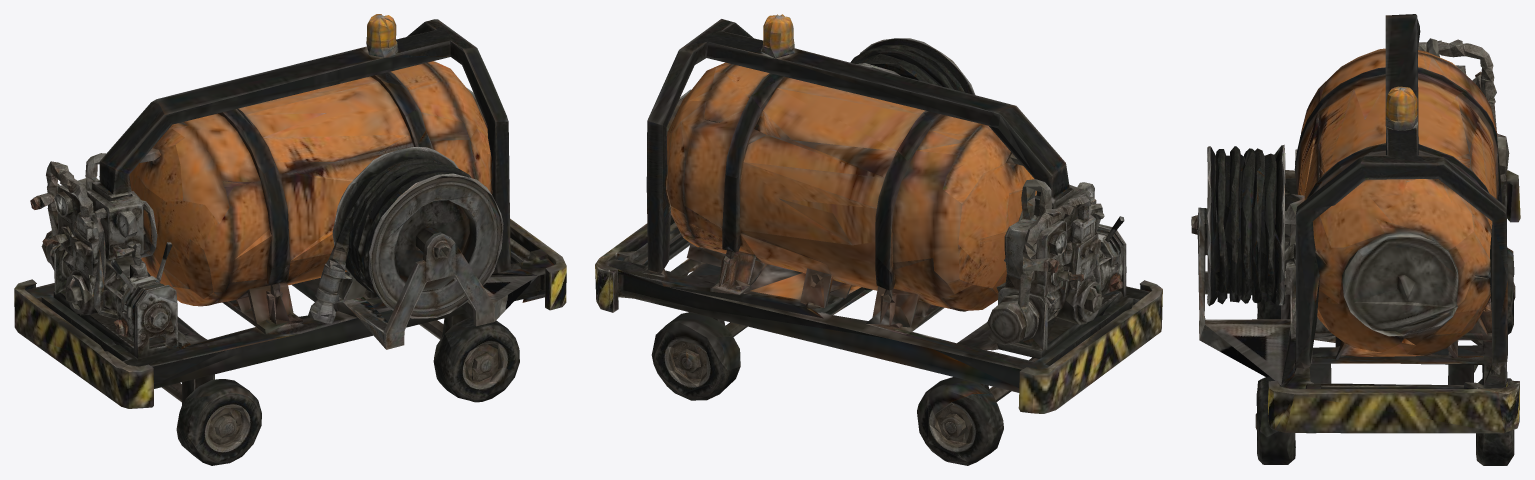
File: ncz-fuel-bowser.glb
3 views of the same model, side by side, from view 1: azimuth 30°, elevation 25°; view 2: azimuth 150°, elevation 25°; view 3: azimuth 270°, elevation 25° (orthographic). The views are drawn at different scales.
Parts seen in each view (by area): view 1: output_unwrapped; view 2: output_unwrapped; view 3: output_unwrapped.
Part boxes in pixels (x1,y1,x2,y2): output_unwrapped: [14, 14, 566, 465]; output_unwrapped: [595, 14, 1162, 465]; output_unwrapped: [1191, 14, 1520, 465].
Size of the model in its own units: 1.9 by 1.4 by 1.18.
1 material, 1 textured.
